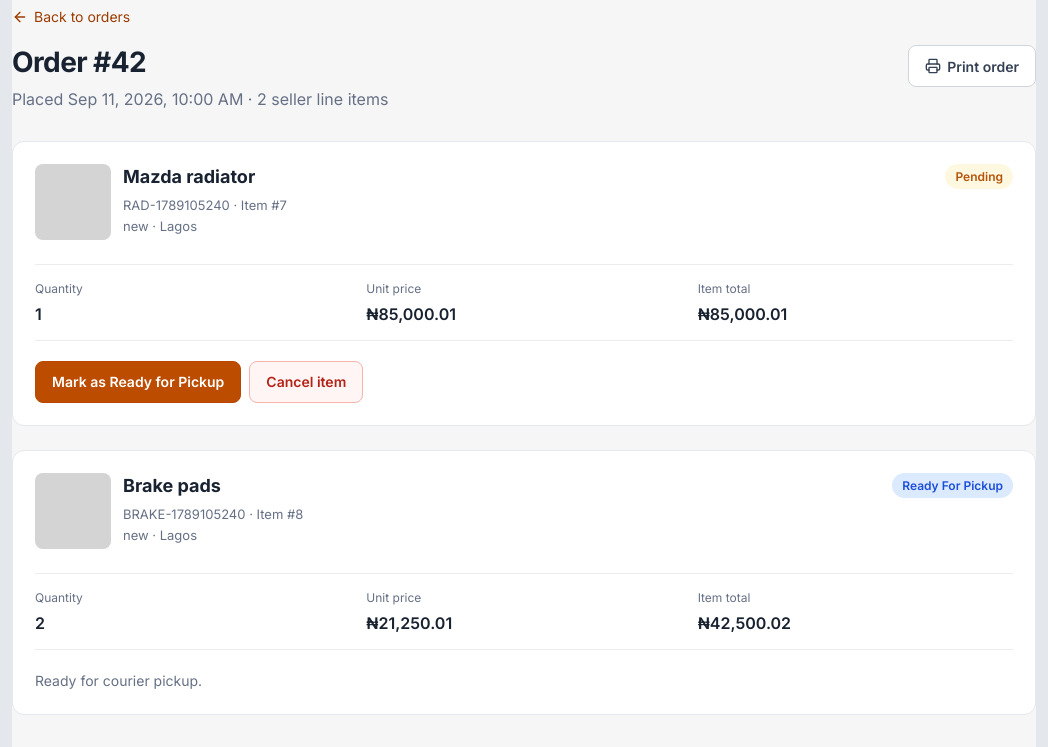
Test: displays the API failure, retains the status and allows retry
Click the button "Mark as Ready for Pickup" at (138, 382), box [35, 361, 241, 403]
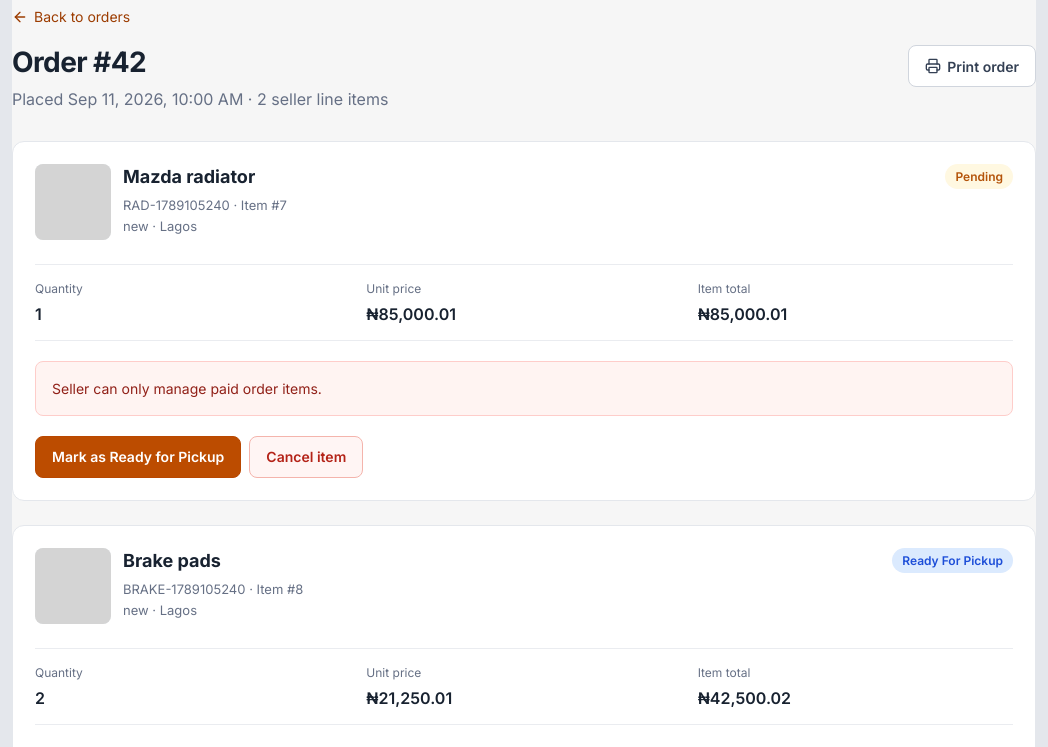
Check: the text "Pending" is shown, box [945, 164, 1013, 189]
Check: the message reads "Seller can only manage paid order items.", box [52, 380, 322, 397]
Click the button "Mark as Ready for Pickup" at (138, 457), box [35, 436, 241, 478]
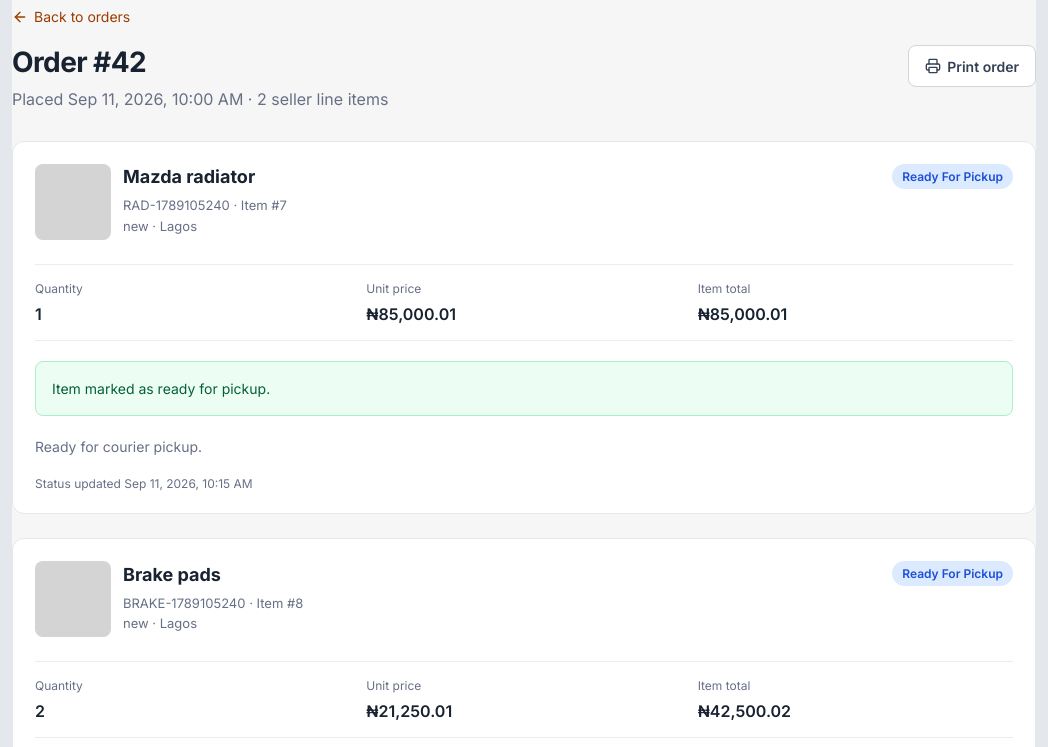
Check: the text "Item marked as ready for pickup." is shown, box [35, 361, 1013, 416]
